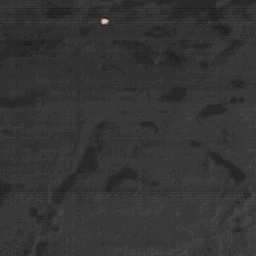Target: (99, 17, 108, 24)
